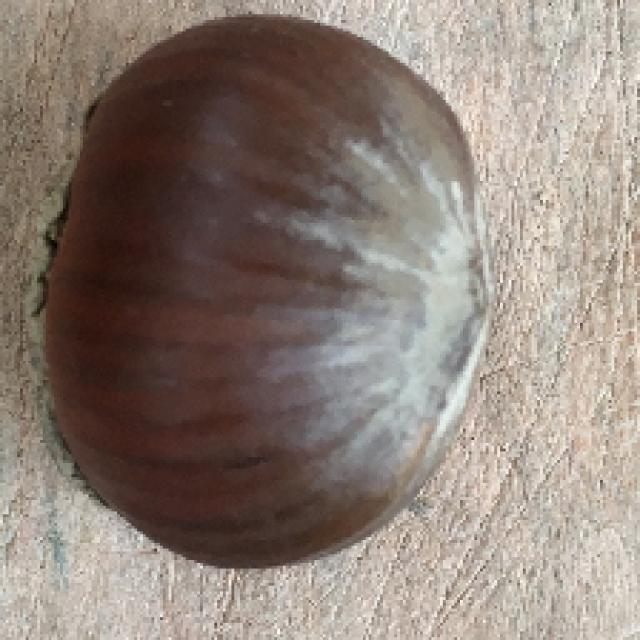damagedHazelnut: (39, 9, 500, 568)
